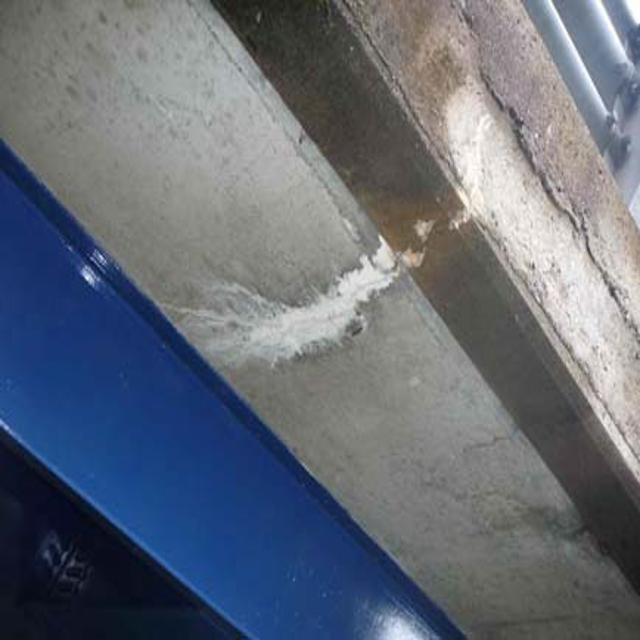freelime: (199, 224, 420, 399)
